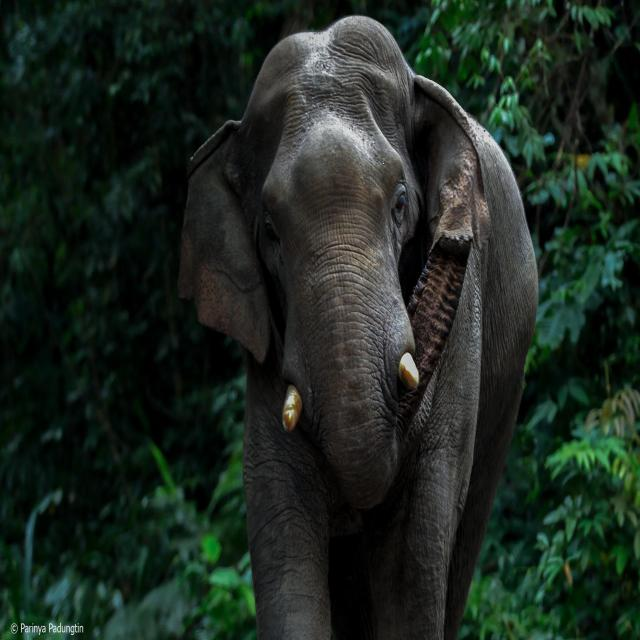Elephant: (157, 0, 555, 638)
